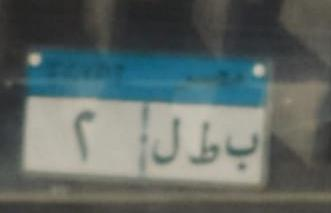2: (59, 105, 105, 167)
ب: (219, 128, 260, 178)
ط: (184, 111, 220, 171)
ل: (151, 114, 185, 167)
